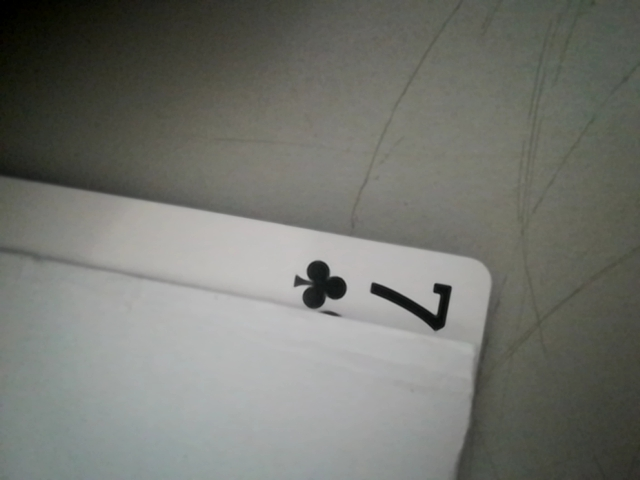mh 7: (278, 254, 472, 330)
